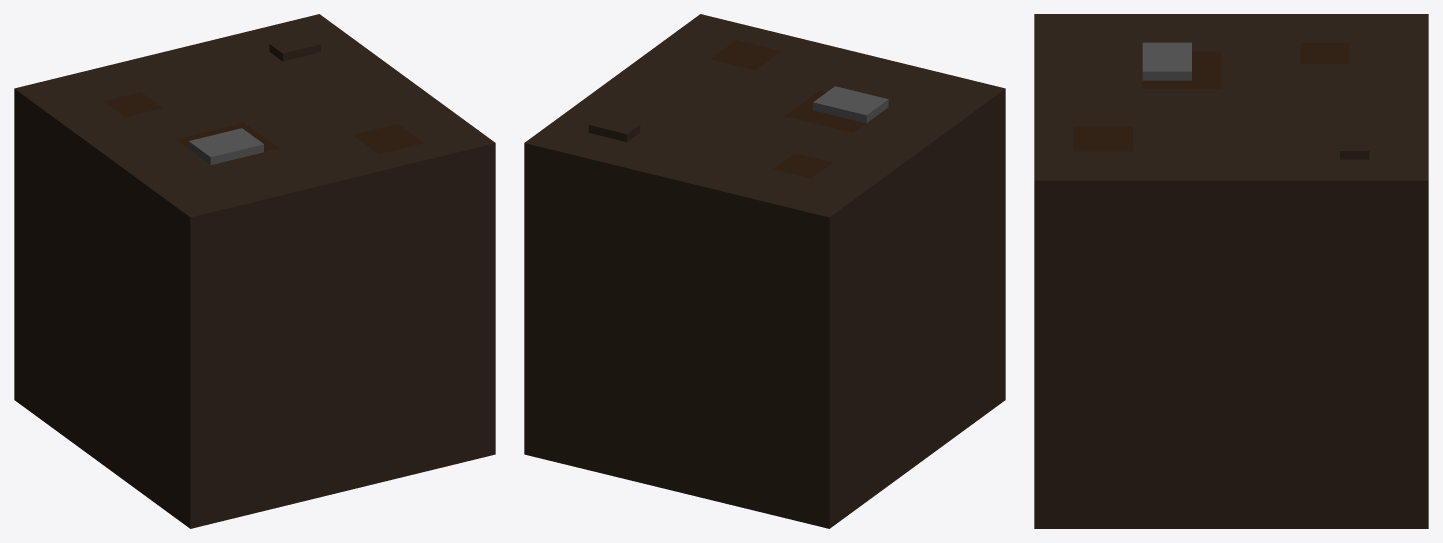
File: DirtBlock3.obj
3 renders of one model, left to right at view 1: azimuth 30°, elevation 25°; view 2: azimuth 150°, elevation 25°; view 3: azimuth 270°, elevation 25°, orthographic. The views are drawn at different scales.
Size of the model in its own units: 4 by 4 by 4.
Materials: 1 (1 with a texture image).
